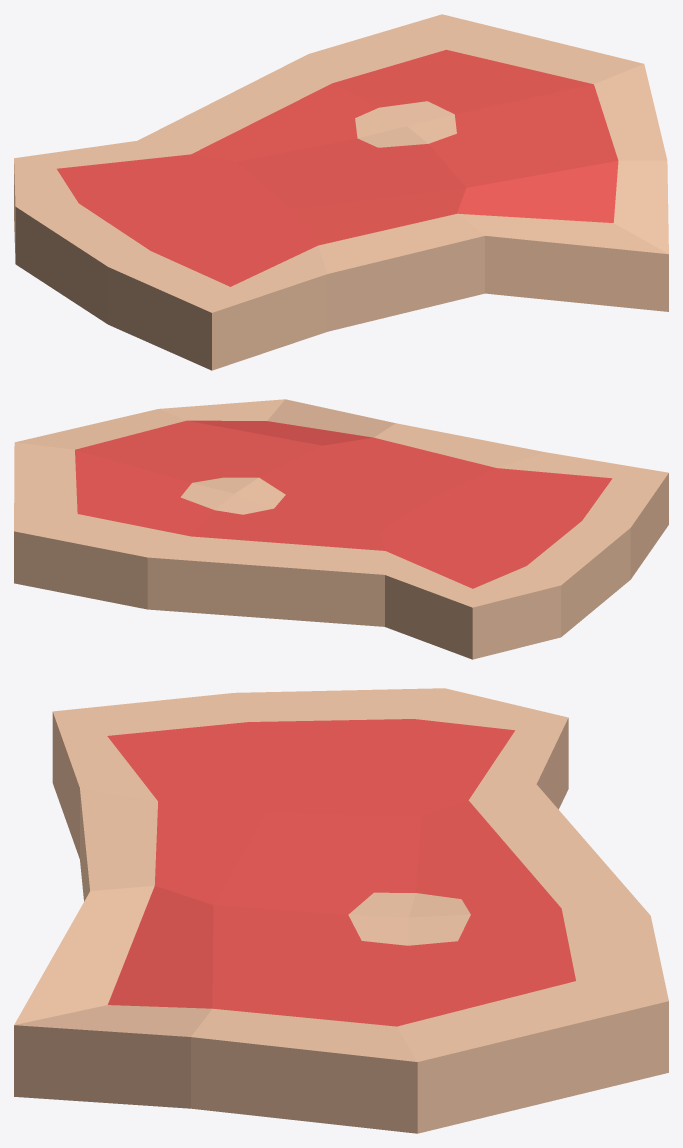
File: meat-type-001.obj
3 renders of one model, top to bottom at view 1: azimuth 30°, elevation 25°; view 2: azimuth 150°, elevation 25°; view 3: azimuth 270°, elevation 25°, orthographic. The views are drawn at different scales.
Visible parts, largest first — view 1: meat-type-001; view 2: meat-type-001; view 3: meat-type-001.
Boxes of the visible parts, box(x1,y1,x2,y2) form: meat-type-001: box(14, 14, 668, 370); meat-type-001: box(14, 399, 668, 659); meat-type-001: box(14, 688, 668, 1133).
Bounding box in the file's own units: 0.285 × 0.042 × 0.211.
